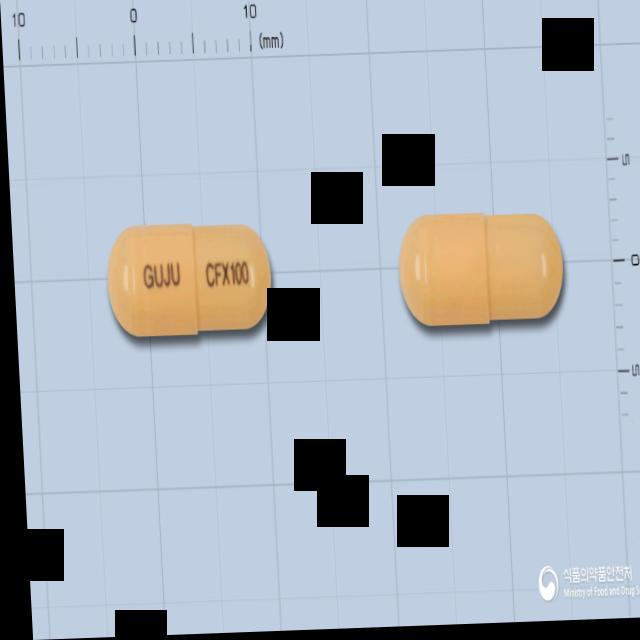Cefsin Cap: (98, 216, 275, 347), (391, 212, 567, 339)
